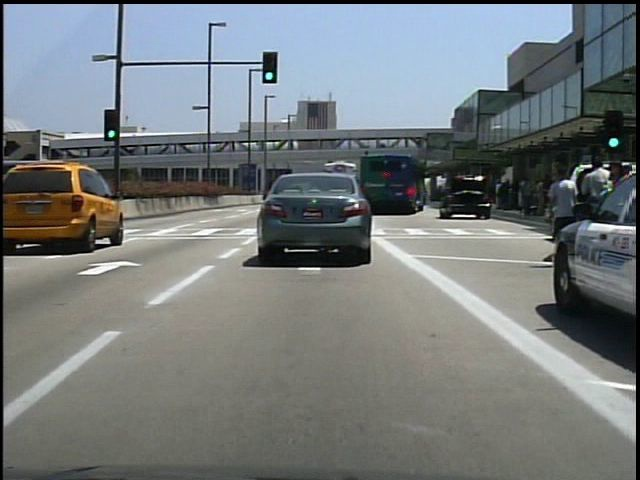person: (579, 153, 622, 279), (542, 161, 583, 269), (18, 166, 36, 230), (38, 169, 60, 221)
